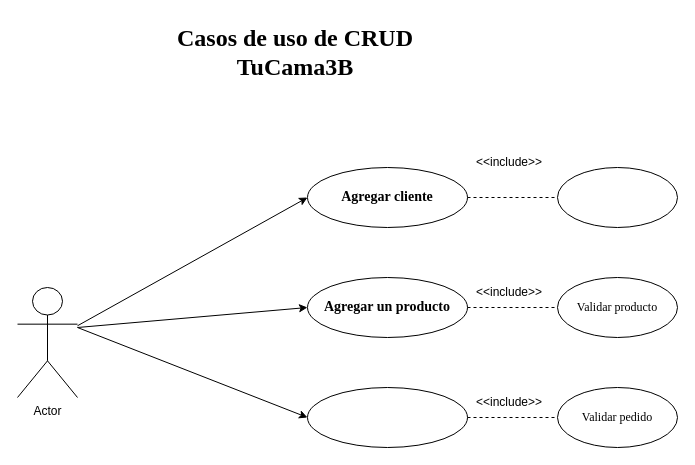
This 695x465 diagram has some shape labels left out. Here are the shapes that lost their labels. From the top down, the box of each, then its label:
(556, 166, 678, 228): Validar cliente
(306, 386, 468, 448): Registrar un pedido
